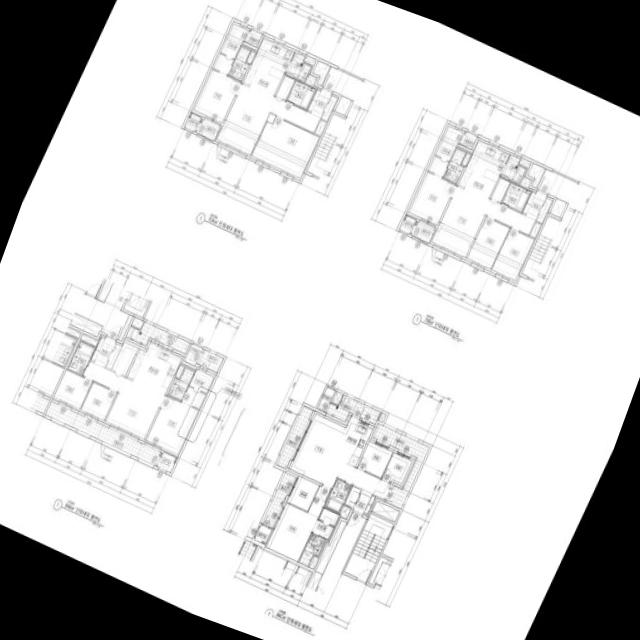background: (0, 0, 640, 640)
space_balconi: (45, 401, 162, 466), (373, 424, 429, 508), (276, 406, 313, 469), (126, 322, 190, 354), (261, 472, 295, 528), (326, 395, 380, 424), (285, 52, 311, 82), (500, 155, 526, 184), (197, 350, 223, 372), (410, 220, 434, 243), (195, 118, 219, 140)
space_bedroom: (266, 486, 330, 561), (251, 117, 319, 178), (146, 396, 198, 454), (193, 69, 241, 123), (408, 172, 455, 225), (491, 228, 534, 280), (467, 217, 509, 269), (53, 369, 92, 408), (80, 382, 116, 420), (357, 441, 392, 478), (381, 452, 411, 483)
space_dressroom: (428, 126, 462, 177), (213, 24, 247, 74), (182, 369, 213, 409), (312, 508, 339, 539)
space_front: (307, 88, 337, 121), (90, 336, 115, 367), (522, 190, 547, 220), (353, 489, 375, 514)
space_kitchen: (243, 38, 294, 96), (458, 140, 509, 198), (127, 343, 182, 394), (332, 416, 372, 467)
space_living_room: (290, 414, 390, 499), (216, 83, 320, 155), (431, 186, 535, 257), (83, 361, 164, 439)
space_multipurpose_space: (287, 476, 319, 511)
space_other: (315, 520, 346, 574), (111, 342, 138, 376), (372, 501, 399, 521), (491, 177, 510, 202), (276, 75, 295, 100), (312, 60, 330, 85), (527, 163, 545, 188), (317, 387, 334, 412), (184, 344, 203, 366), (105, 344, 121, 369), (536, 198, 552, 223), (118, 315, 133, 341), (549, 198, 566, 218), (344, 486, 360, 507), (244, 29, 262, 47), (334, 96, 351, 115), (459, 132, 477, 149), (80, 334, 97, 346), (314, 120, 326, 135), (529, 222, 540, 238), (131, 317, 143, 329), (339, 505, 350, 517), (332, 392, 342, 405), (519, 177, 530, 188), (304, 75, 315, 86), (461, 153, 470, 166), (246, 51, 255, 64), (175, 365, 184, 378), (308, 556, 317, 568), (303, 57, 314, 66), (518, 159, 529, 168), (378, 413, 385, 422)
space_outdoor_room: (156, 452, 177, 473), (184, 112, 201, 131), (254, 525, 271, 544), (399, 215, 416, 233)
space_staircase: (344, 514, 393, 582)
space_toilet: (67, 341, 94, 375), (324, 479, 351, 513), (167, 367, 194, 400), (298, 533, 325, 566), (501, 182, 530, 212), (286, 80, 315, 109), (228, 46, 250, 81), (443, 148, 465, 183)
